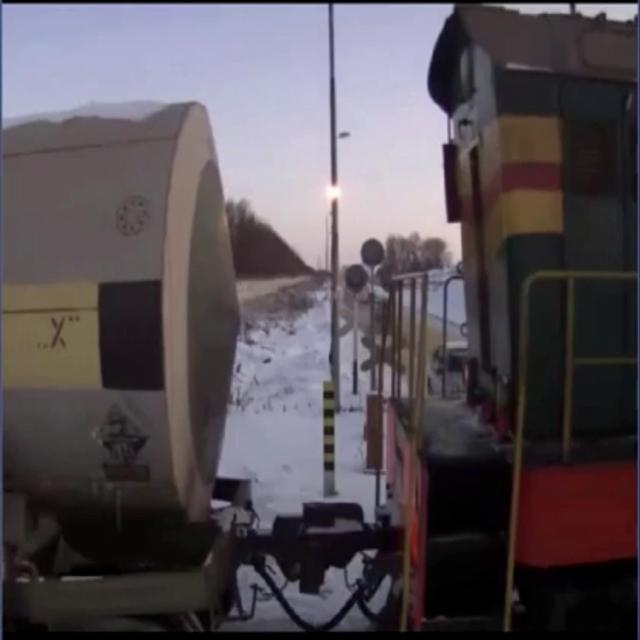locomotive: (353, 0, 640, 640)
tank: (0, 63, 276, 640)
